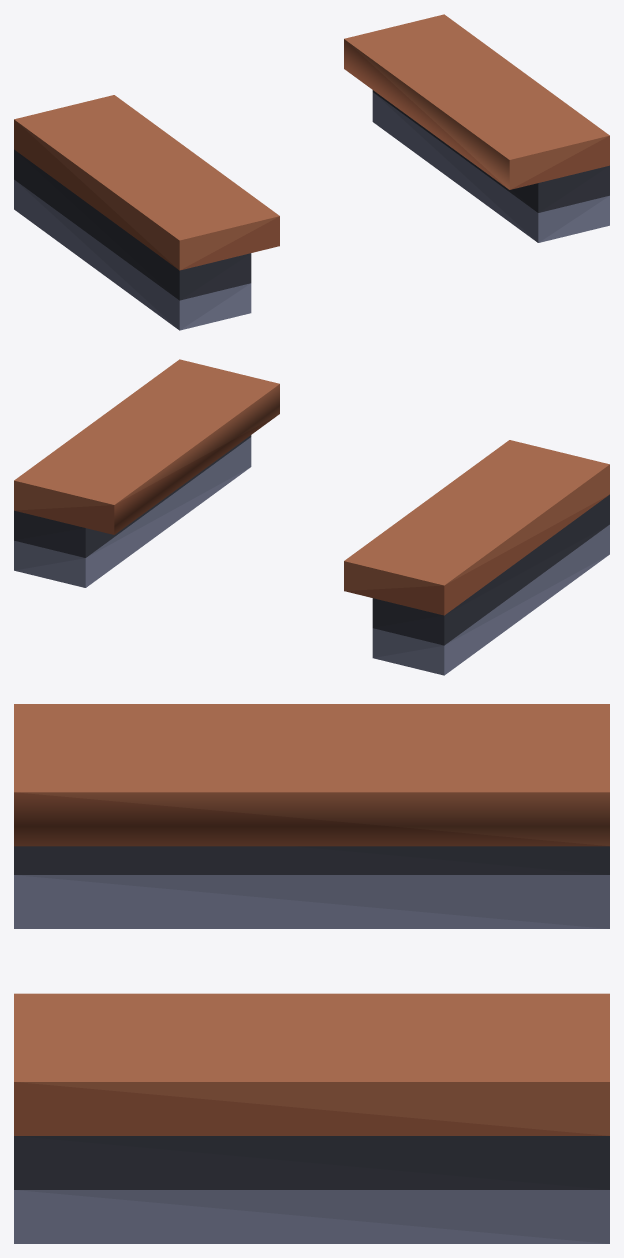
Rendered from coaster_station.glb.
3 views of the same model, one above another, from view 1: azimuth 30°, elevation 25°; view 2: azimuth 150°, elevation 25°; view 3: azimuth 270°, elevation 25° (orthographic). The views are drawn at different scales.
Visible parts, largest first — view 1: coaster_station; view 2: coaster_station; view 3: coaster_station.
Part boxes in pixels (bbox=[...]): coaster_station: bbox=[14, 14, 609, 330]; coaster_station: bbox=[14, 359, 609, 675]; coaster_station: bbox=[14, 704, 609, 1243].
Size of the model in its own units: 1.5 by 0.3 by 1.
